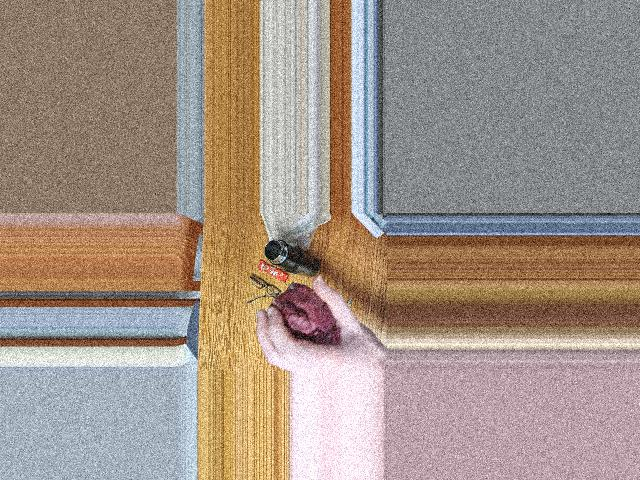onion: (270, 291, 338, 344)
